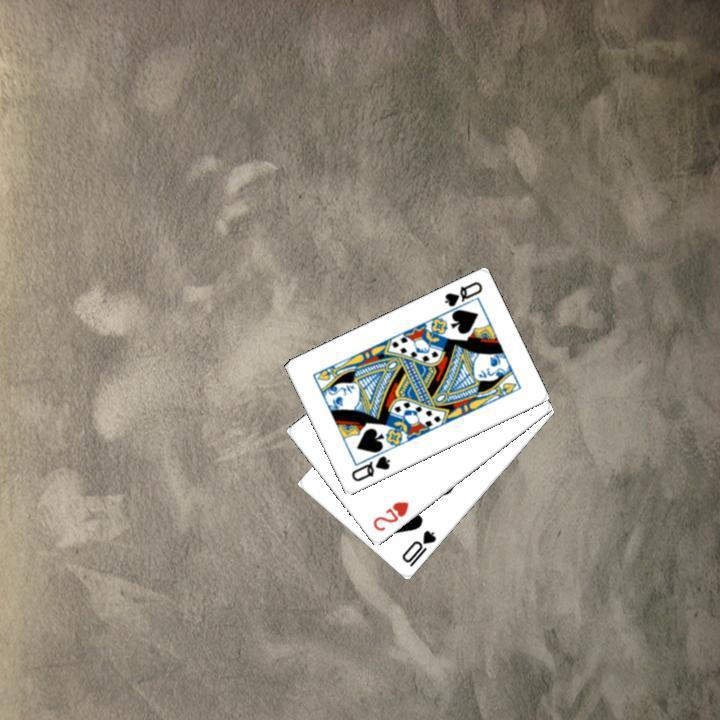10: (397, 526, 438, 569)
2: (368, 497, 411, 534)
Q: (347, 452, 392, 484), (440, 277, 484, 309)
